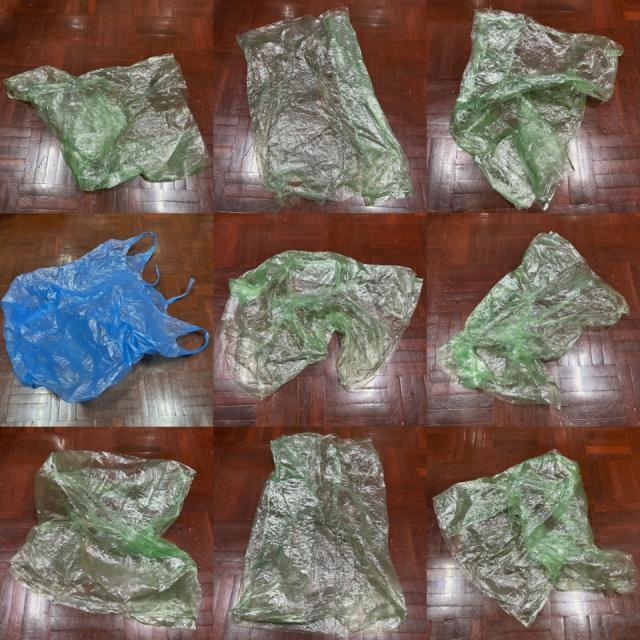Single-layer Plastic: (434, 450, 636, 626), (1, 232, 209, 402), (230, 432, 406, 632), (450, 10, 624, 209), (238, 8, 412, 205), (438, 231, 629, 408), (10, 451, 201, 628), (220, 250, 422, 399), (4, 54, 206, 191)
